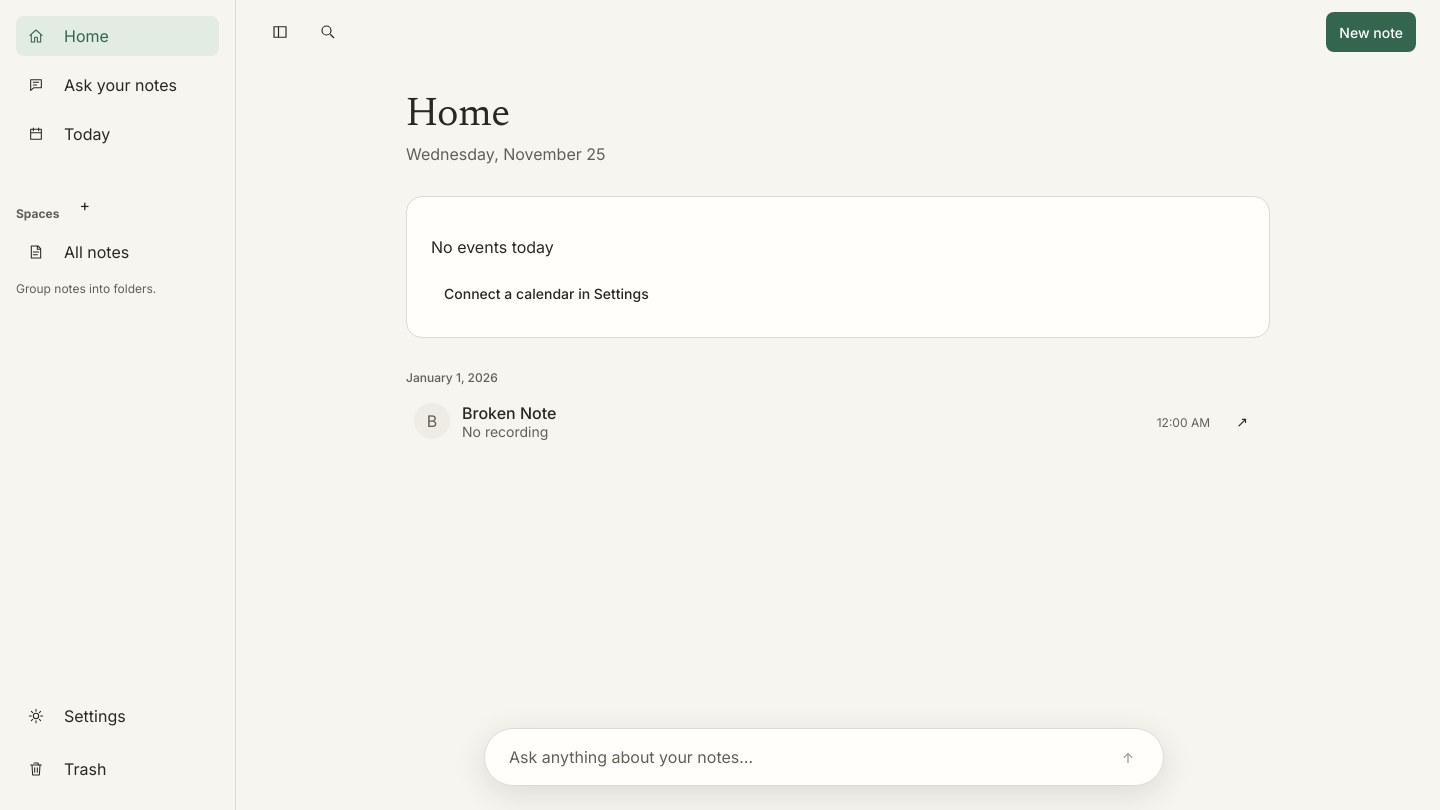
Scenario: F4: note load failure shows plain-language error with Retry and Back to Home
The image size is (1440, 810).
Step 1. Click the button "Broken Note" → (509, 412), box [462, 402, 556, 422]
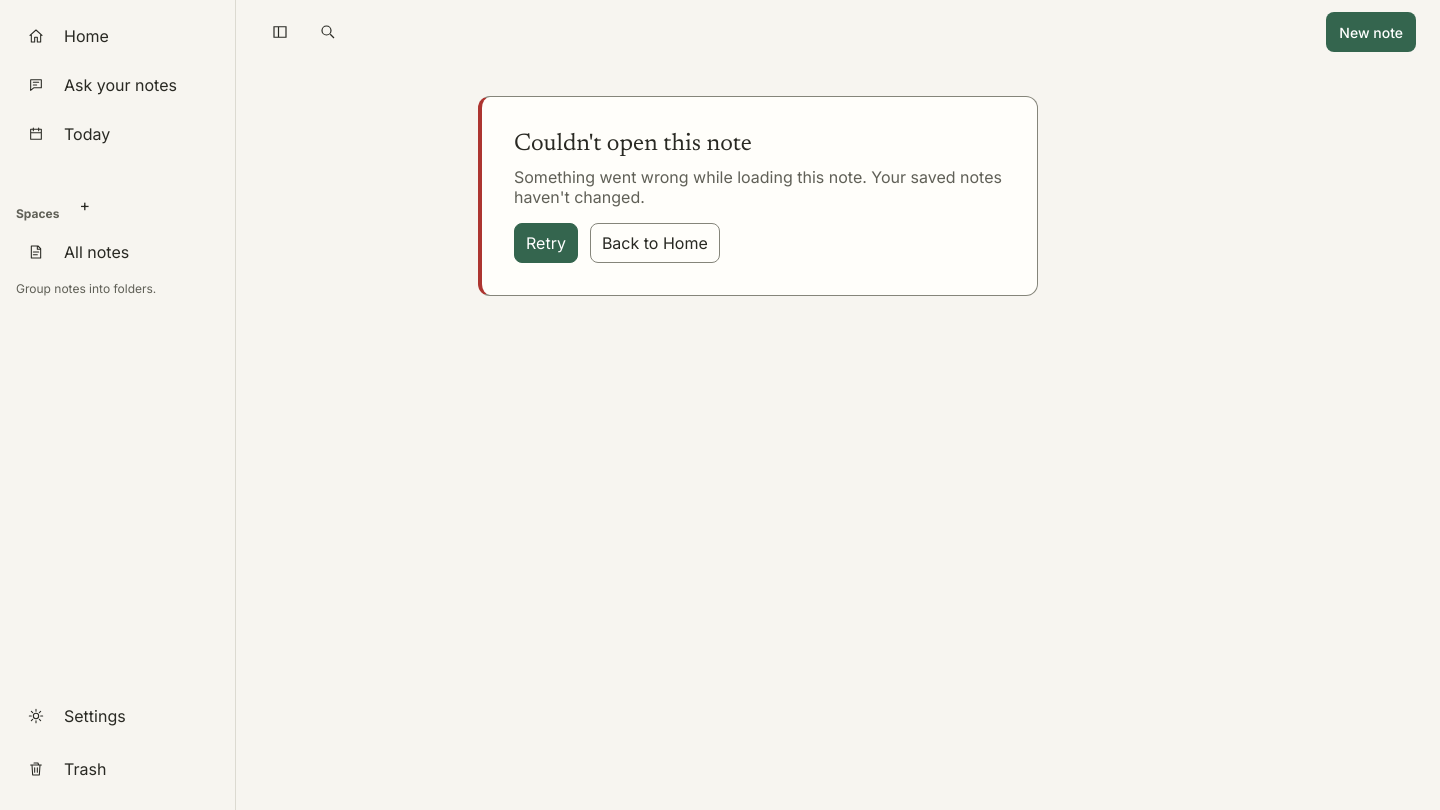
Expected: the message shows "Couldn't open this note", [514, 132, 752, 156]
Expected: the message shows "Your saved notes haven't changed.", [514, 167, 1002, 207]
Expected: the button "Back to Home" is shown, [590, 223, 720, 263]
Step 2. Click the button "Retry" → (546, 243), box [514, 223, 578, 263]
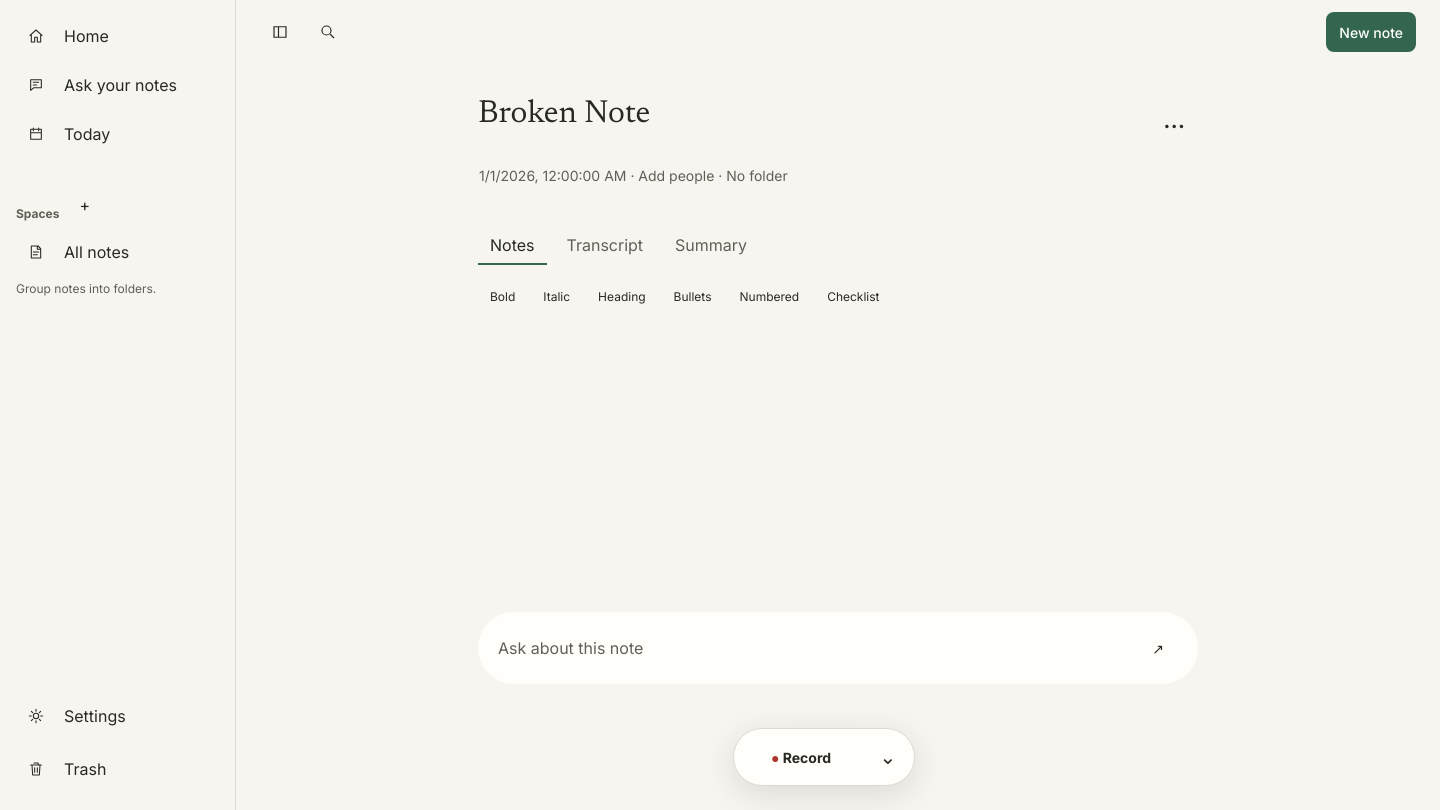
Expected: the text box named "Note title" holds "Broken Note", [478, 96, 1126, 133]
